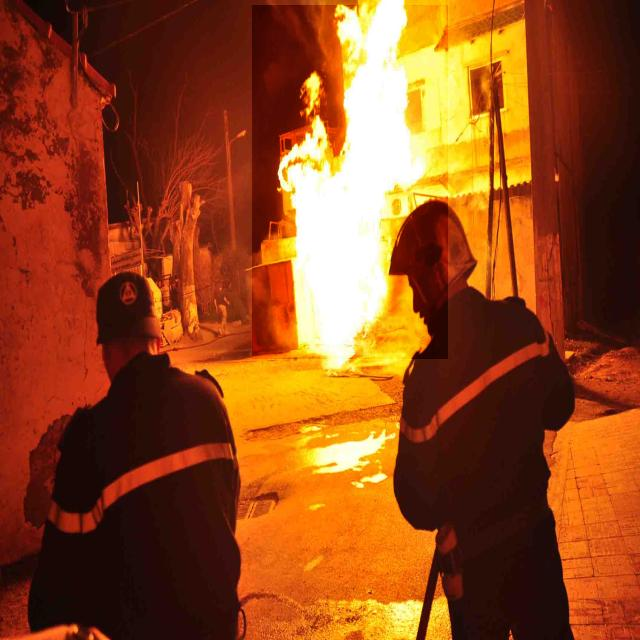Fire: (252, 6, 448, 360)
